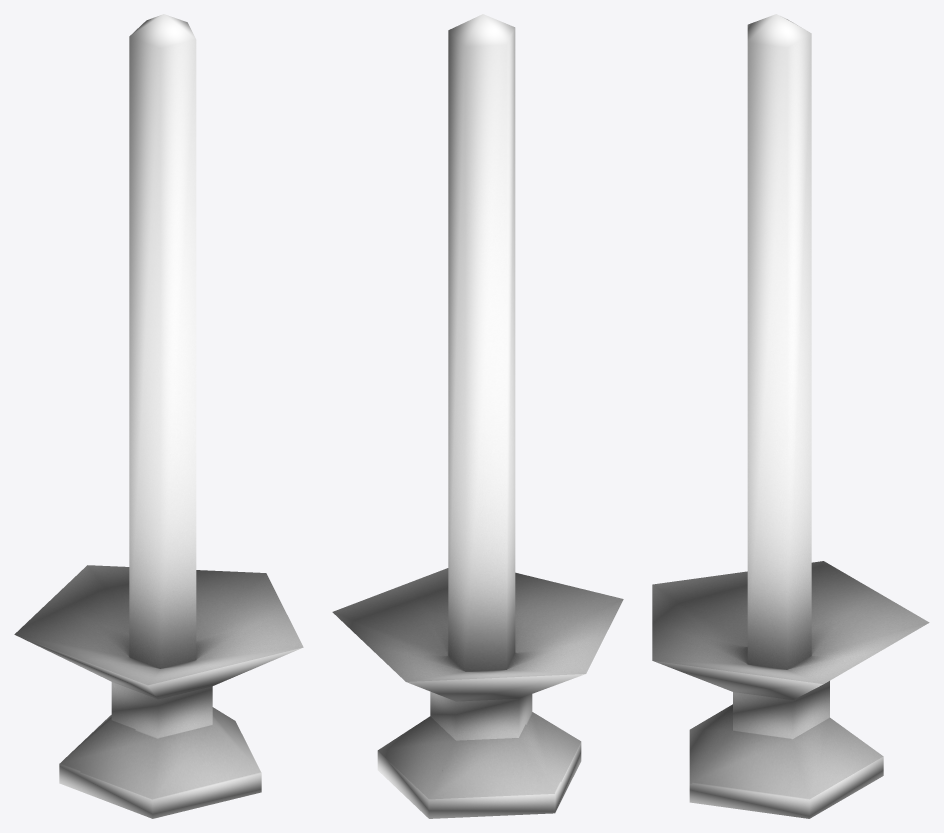
Rendered from CandleStick.dae.
3 views of the same model, side by side, from view 1: azimuth 30°, elevation 25°; view 2: azimuth 150°, elevation 25°; view 3: azimuth 270°, elevation 25° (orthographic).
Visible parts, largest first — view 1: Cylinder; view 2: Cylinder; view 3: Cylinder.
Part boxes in pixels (x1=…): Cylinder: x1=14, y1=14, x2=303, y2=818; Cylinder: x1=332, y1=14, x2=623, y2=818; Cylinder: x1=652, y1=14, x2=929, y2=818.
Bounding box in the file's own units: 1.36 × 1.29 × 3.92.
Materials: 1 (1 with a texture image).
